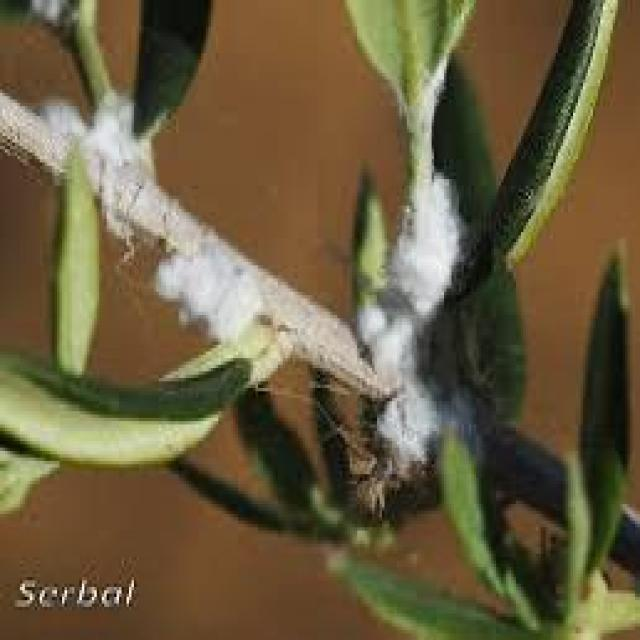Psyllid: (335, 122, 494, 488), (30, 60, 174, 248), (154, 242, 273, 342)
